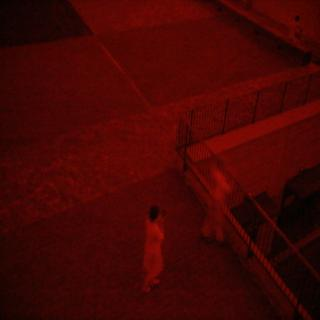person: (193, 152, 237, 245), (134, 201, 174, 295)
